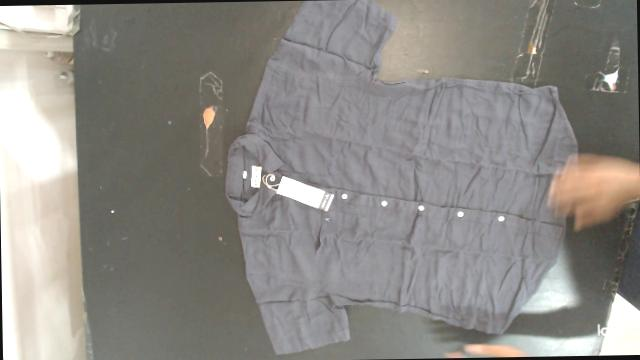new-garment: (225, 0, 577, 353)
